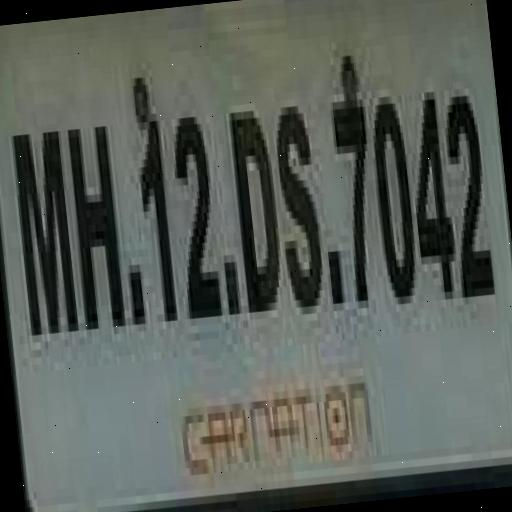number plate: (0, 0, 512, 427)
